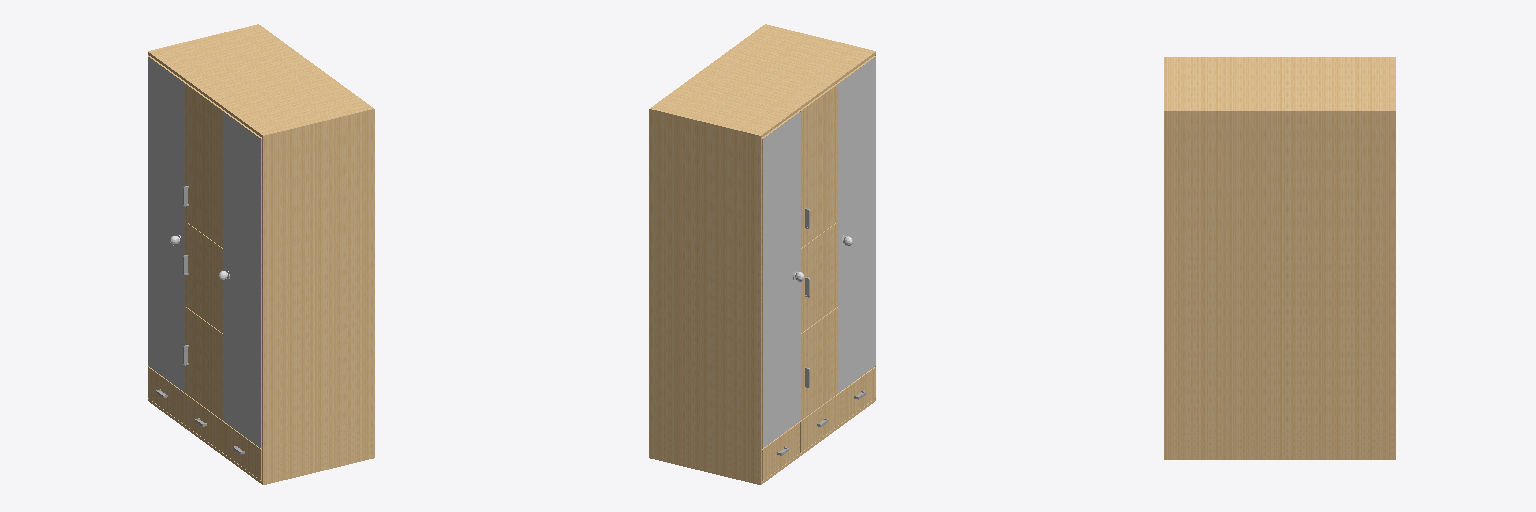
3 views of the same model, side by side, from view 1: azimuth 30°, elevation 25°; view 2: azimuth 150°, elevation 25°; view 3: azimuth 270°, elevation 25° (orthographic).
Parts seen in each view (by area): view 1: Door_Knobs_Sphere.000; view 2: Door_Knobs_Sphere.000; view 3: Door_Knobs_Sphere.000.
Boxes of the visible parts, <box> form: Door_Knobs_Sphere.000: <box>148,24,374,484</box>; Door_Knobs_Sphere.000: <box>649,24,875,484</box>; Door_Knobs_Sphere.000: <box>1164,57,1395,459</box>.
Size of the model in its own units: 0.8971 by 2.47 by 1.48.
Materials: 4 (1 with a texture image).